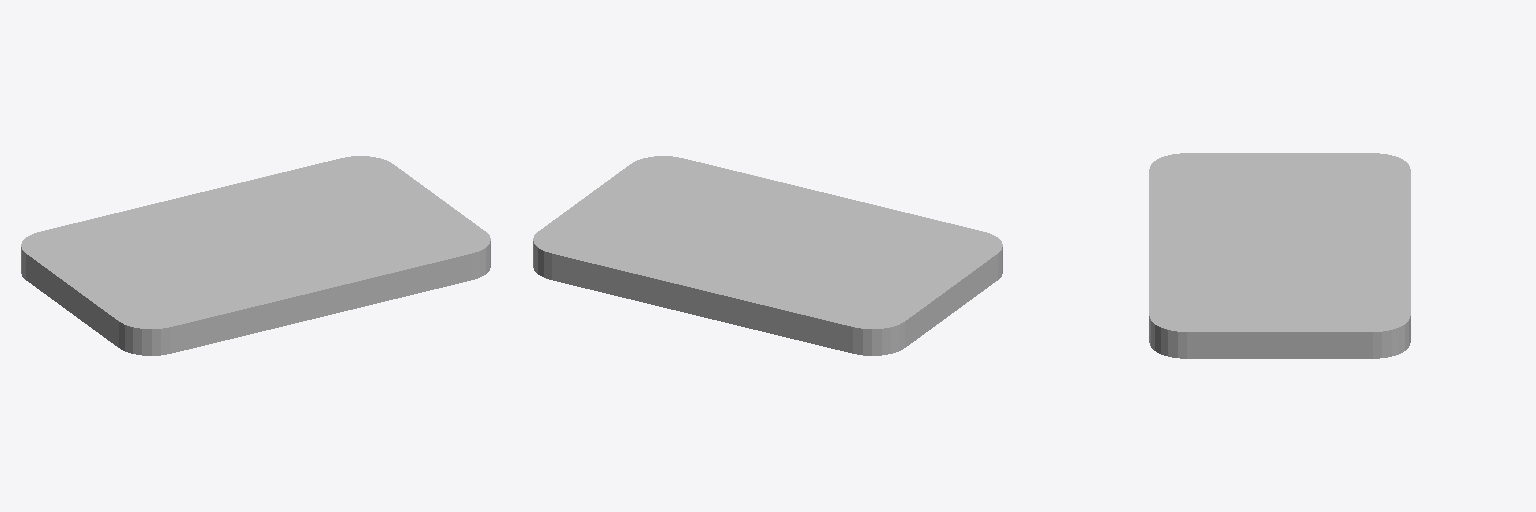
The model's file is original-61.obj.
3 renders of one model, left to right at view 1: azimuth 30°, elevation 25°; view 2: azimuth 150°, elevation 25°; view 3: azimuth 270°, elevation 25°, orthographic.
Visible parts, largest first — view 1: mesh60/mesh60-geometry#mesh60-geometry; view 2: mesh60/mesh60-geometry#mesh60-geometry; view 3: mesh60/mesh60-geometry#mesh60-geometry.
Part boxes in pixels (left/top/right/bottom): mesh60/mesh60-geometry#mesh60-geometry: left=21, top=156, right=490, bottom=355; mesh60/mesh60-geometry#mesh60-geometry: left=533, top=156, right=1002, bottom=355; mesh60/mesh60-geometry#mesh60-geometry: left=1149, top=153, right=1410, bottom=358.
Bounding box in the file's own units: 0.0922 × 0.0064 × 0.0568.